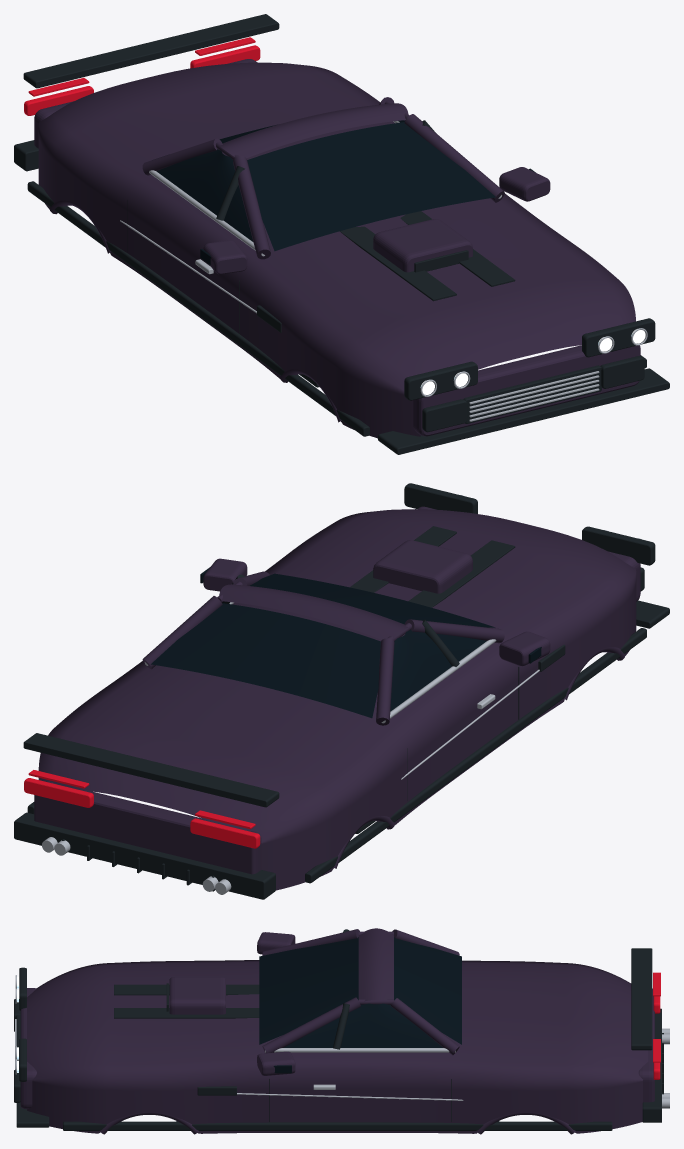
The model's file is nightfall_v8.glb.
3 views of the same model, one above another, from view 1: azimuth 30°, elevation 25°; view 2: azimuth 150°, elevation 25°; view 3: azimuth 270°, elevation 25° (orthographic). The views are drawn at different scales.
Parts seen in each view (by area): view 1: nightfall_v8; view 2: nightfall_v8; view 3: nightfall_v8.
Boxes of the visible parts, box(x1,y1,x2,y2) form: nightfall_v8: box(14, 14, 669, 454); nightfall_v8: box(14, 483, 669, 899); nightfall_v8: box(14, 928, 669, 1134).
Bounding box in the file's own units: 2.41 × 1.03 × 5.01.
